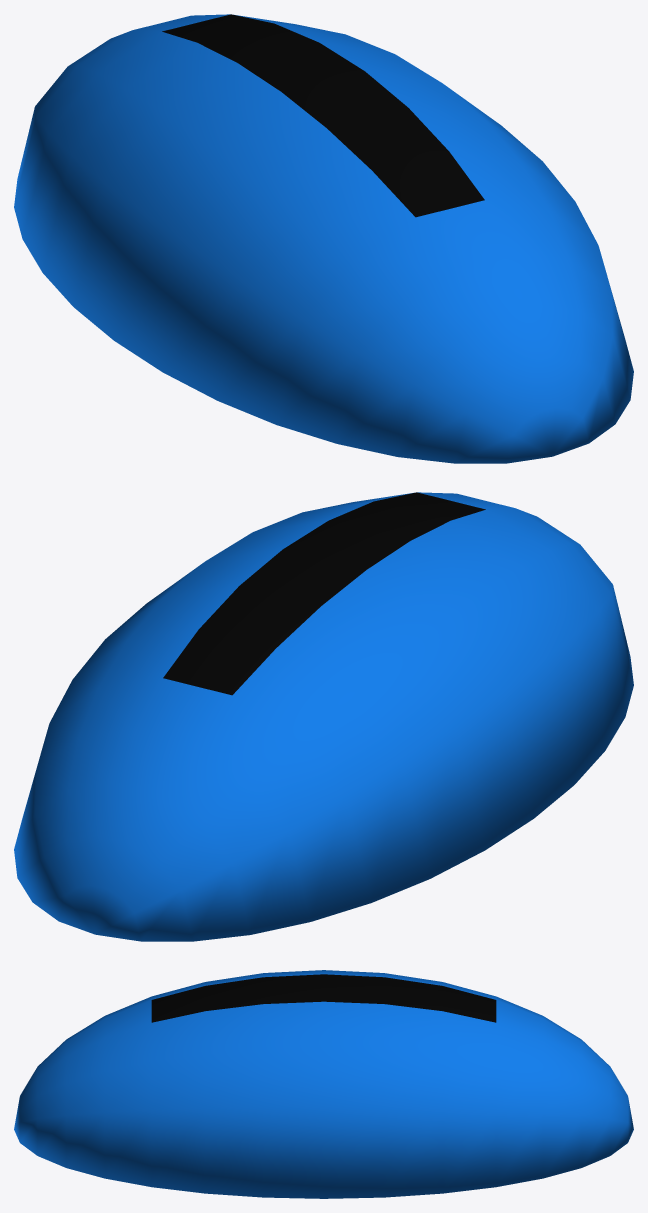
The model's file is godotPlate.glb.
3 renders of one model, top to bottom at view 1: azimuth 30°, elevation 25°; view 2: azimuth 150°, elevation 25°; view 3: azimuth 270°, elevation 25°, orthographic. The views are drawn at different scales.
Parts seen in each view (by area): view 1: Trigger; view 2: Trigger; view 3: Trigger.
Part boxes in pixels (bbox=[...]): Trigger: bbox=[14, 14, 633, 463]; Trigger: bbox=[14, 492, 633, 941]; Trigger: bbox=[14, 970, 633, 1198].
Size of the model in its own units: 2.12 by 1 by 3.99.
